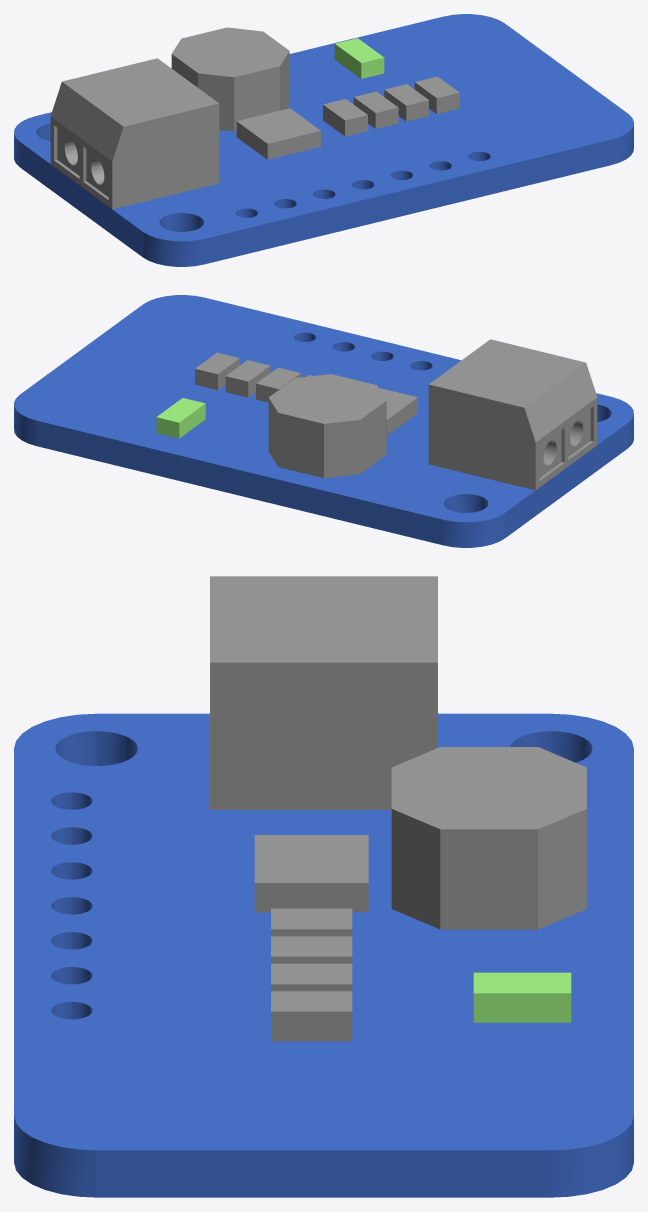
Rendered from ada-2190.glb.
The picture shows the model from 3 angles, top to bottom: view 1: azimuth 30°, elevation 25°; view 2: azimuth 150°, elevation 25°; view 3: azimuth 270°, elevation 25°; orthographic projection. The views are drawn at different scales.
Parts seen in each view (by area): view 1: 0.08333333333333333_0.16666666666666666_0.75_0, 0.3333333333333333_0.3333333333333333_0.3333333333333333_0, 0.4166666666666667_1_0.25_0; view 2: 0.08333333333333333_0.16666666666666666_0.75_0, 0.3333333333333333_0.3333333333333333_0.3333333333333333_0, 0.4166666666666667_1_0.25_0; view 3: 0.08333333333333333_0.16666666666666666_0.75_0, 0.3333333333333333_0.3333333333333333_0.3333333333333333_0, 0.4166666666666667_1_0.25_0.
Part boxes in pixels (x1,y1,x2,y2): 0.08333333333333333_0.16666666666666666_0.75_0: [14, 14, 633, 266]; 0.3333333333333333_0.3333333333333333_0.3333333333333333_0: [50, 27, 459, 209]; 0.4166666666666667_1_0.25_0: [334, 38, 384, 78]; 0.08333333333333333_0.16666666666666666_0.75_0: [14, 295, 633, 547]; 0.3333333333333333_0.3333333333333333_0.3333333333333333_0: [195, 339, 597, 490]; 0.4166666666666667_1_0.25_0: [156, 398, 205, 438]; 0.08333333333333333_0.16666666666666666_0.75_0: [14, 713, 633, 1197]; 0.3333333333333333_0.3333333333333333_0.3333333333333333_0: [210, 576, 586, 1041]; 0.4166666666666667_1_0.25_0: [473, 972, 571, 1022].
Bounding box in the file's own units: 3.17 × 0.6601 × 1.91.
